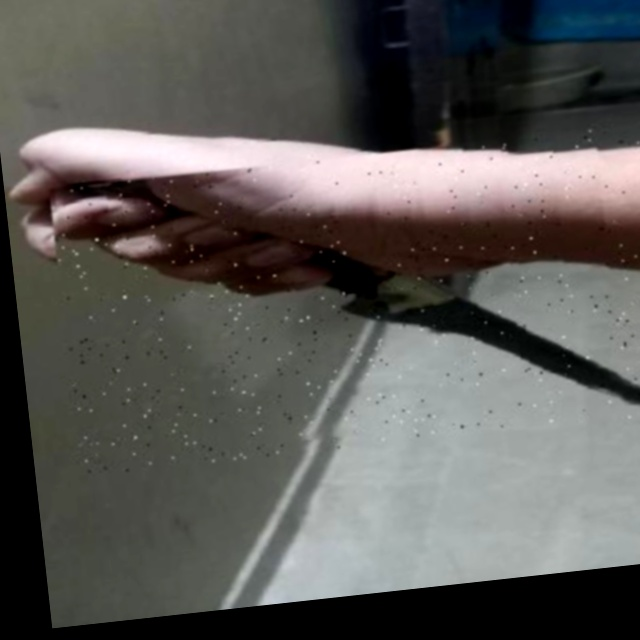Sharp-Object: (49, 122, 640, 478)
